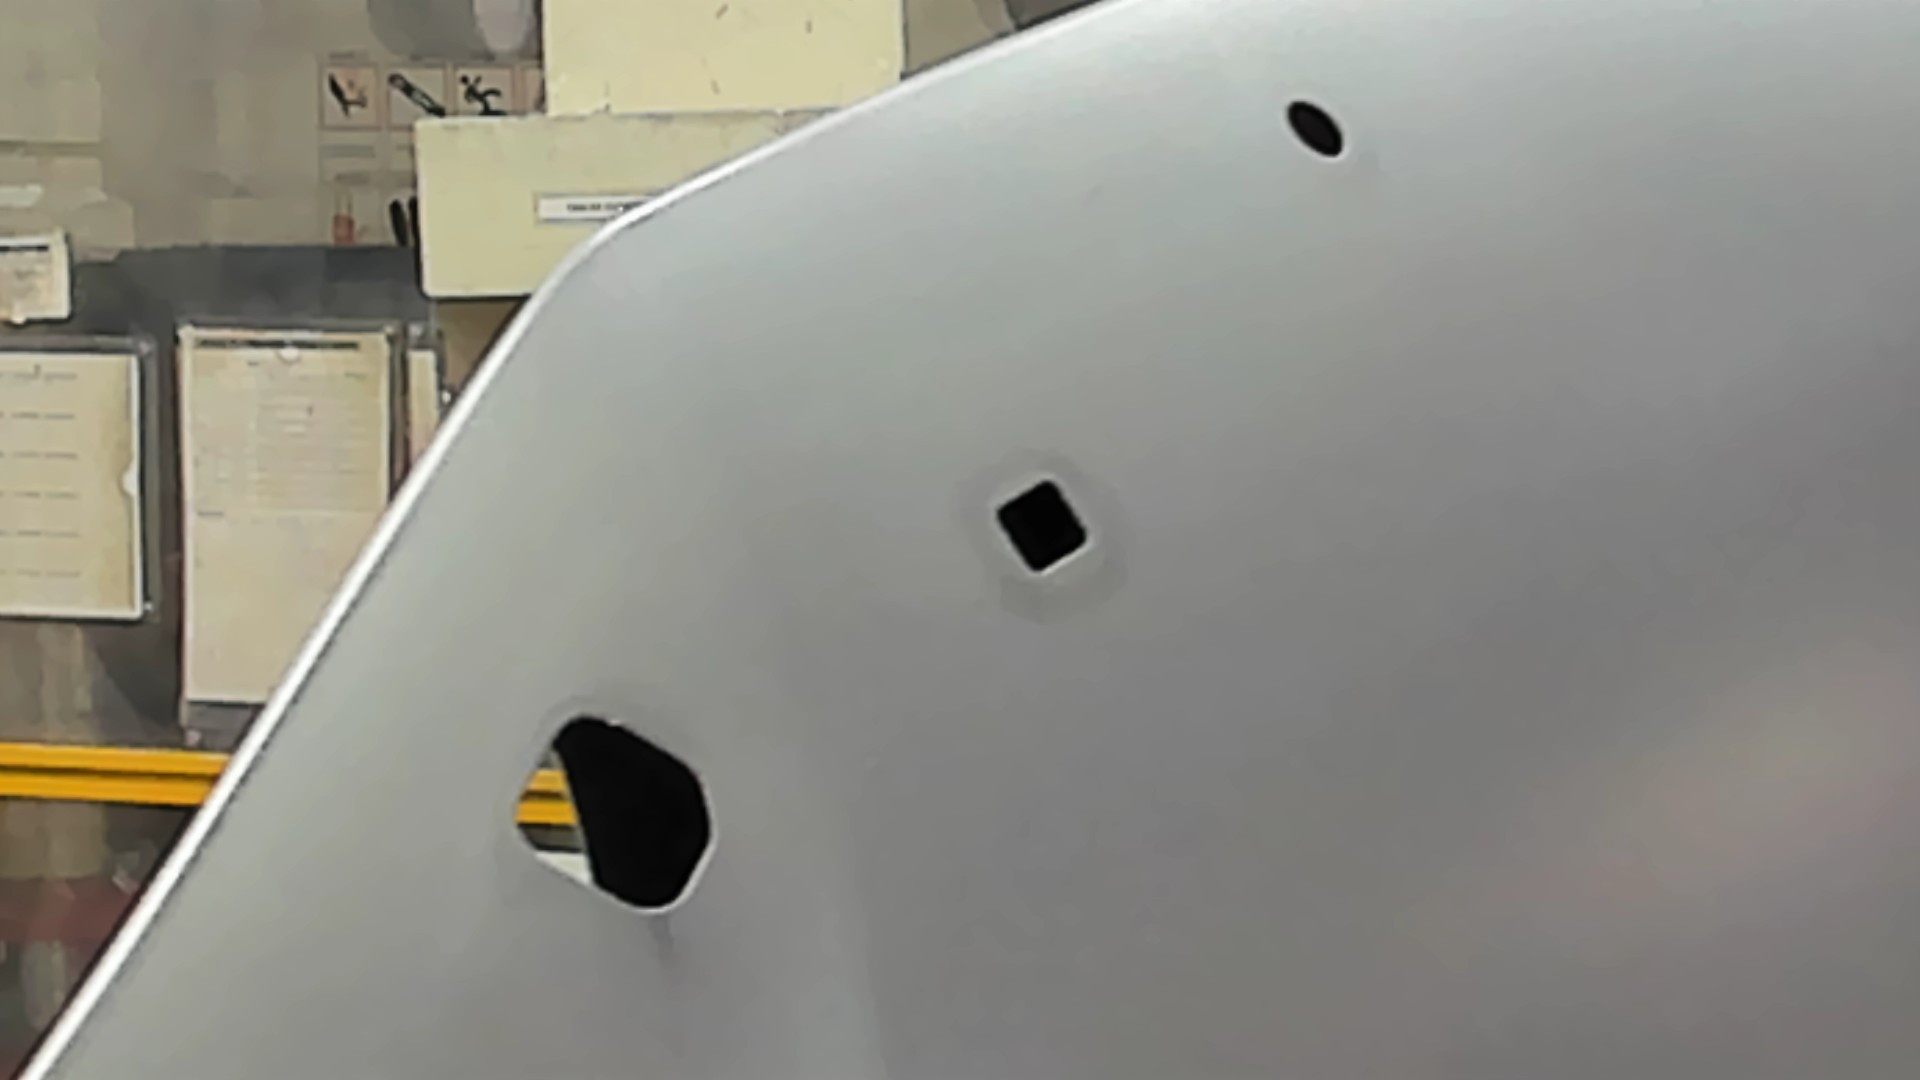capo: (1101, 171, 1920, 1080)
chico: (1280, 95, 1346, 165)
grande: (502, 702, 723, 926)
mediano: (985, 469, 1095, 580)
